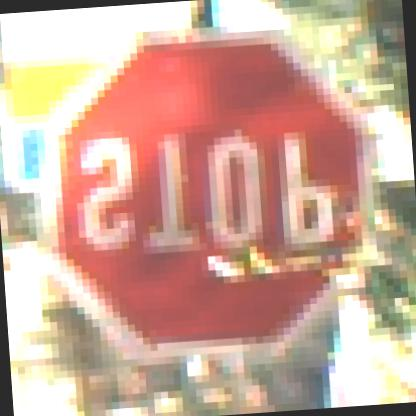stop: (50, 21, 387, 377)
